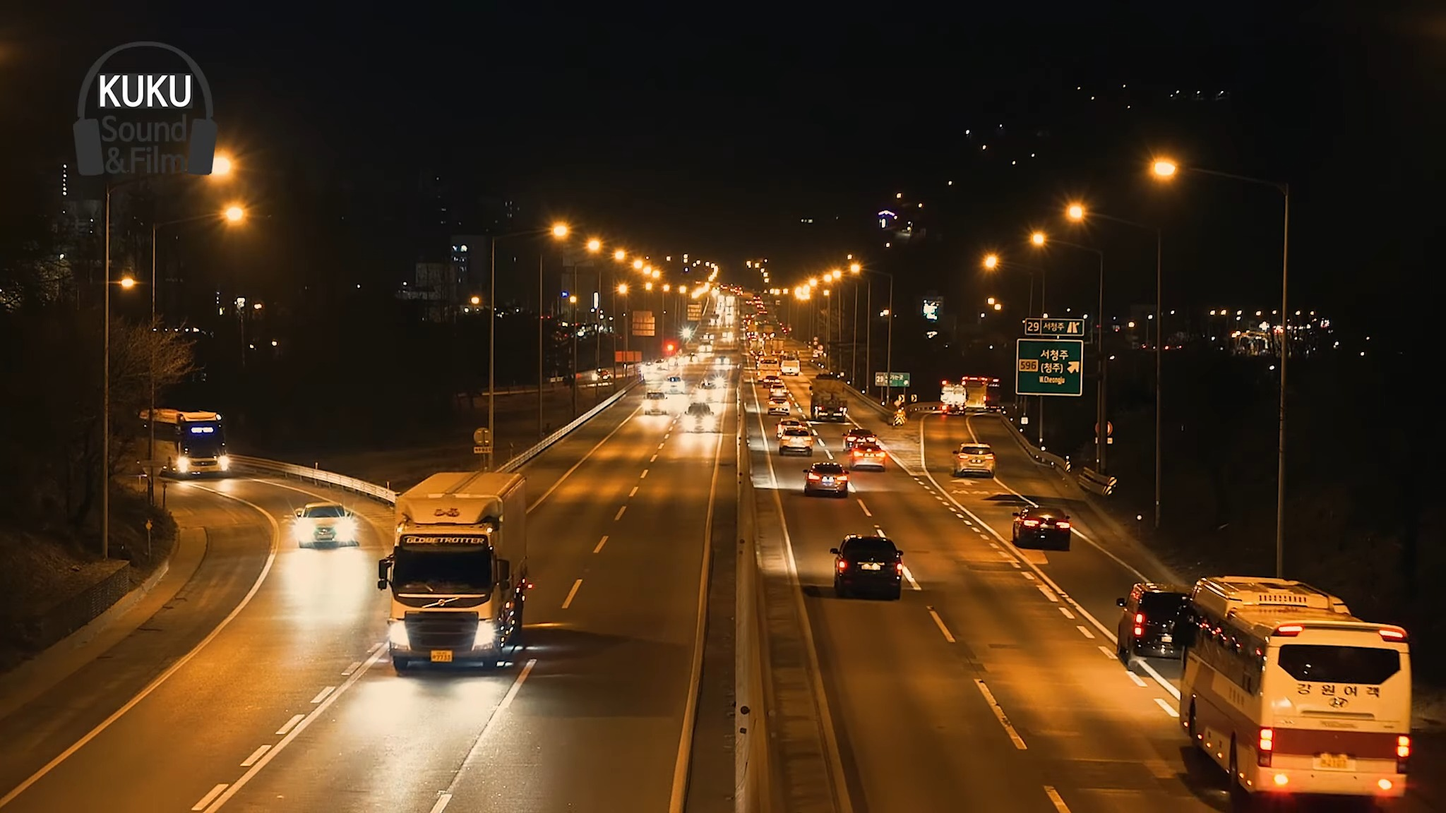car: (1183, 581, 1416, 809), (828, 533, 911, 600), (1010, 500, 1072, 555), (292, 505, 358, 552), (844, 434, 888, 474), (952, 441, 996, 477), (779, 422, 819, 454), (805, 463, 846, 494)
truck: (380, 464, 531, 679)
